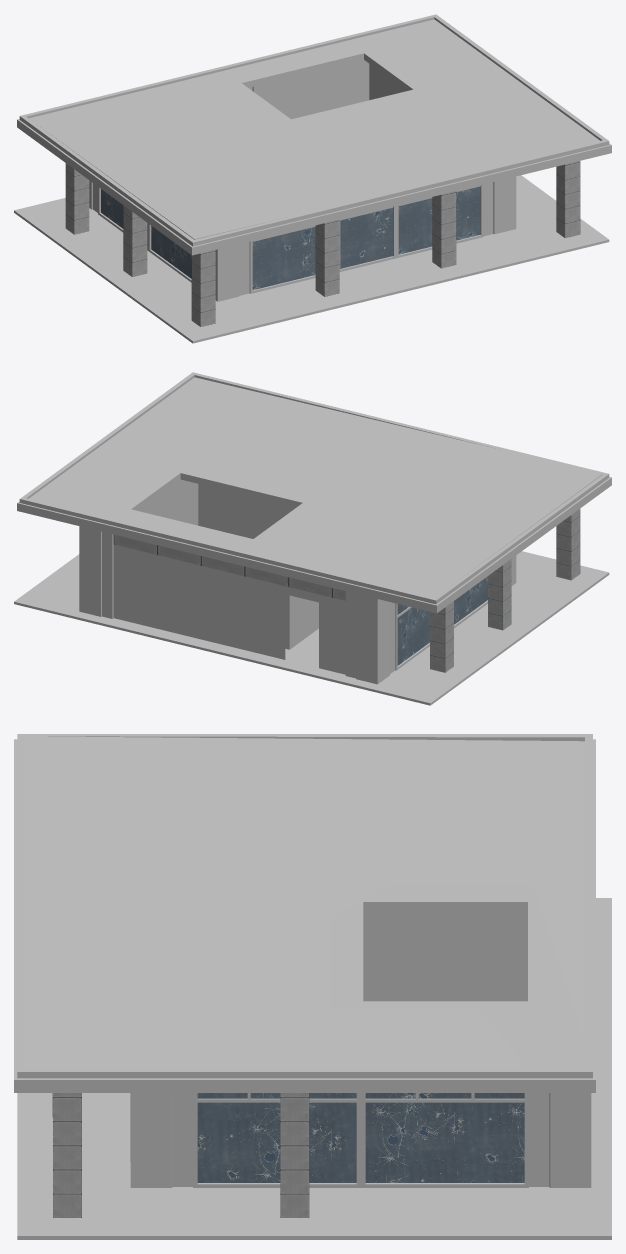
File: jianzhu.FBX
3 renders of one model, top to bottom at view 1: azimuth 30°, elevation 25°; view 2: azimuth 150°, elevation 25°; view 3: azimuth 270°, elevation 25°, orthographic. The views are drawn at different scales.
Visible parts, largest first — view 1: polySurface359, di, zhuzi, chuang; view 2: polySurface359, di, zhuzi, chuang; view 3: polySurface359, di, chuang, zhuzi.
Part boxes in pixels (bbox=[...]): polySurface359: bbox=[17, 14, 611, 301]; di: bbox=[14, 87, 609, 343]; zhuzi: bbox=[65, 161, 580, 326]; chuang: bbox=[101, 186, 480, 289]; polySurface359: bbox=[17, 372, 611, 684]; di: bbox=[14, 544, 609, 705]; zhuzi: bbox=[113, 509, 580, 672]; chuang: bbox=[397, 576, 487, 665]; polySurface359: bbox=[14, 734, 595, 1187]; di: bbox=[17, 898, 611, 1239]; chuang: bbox=[197, 1093, 524, 1182]; zhuzi: bbox=[52, 1093, 309, 1217].
Bounding box in the file's own units: 14.4 × 3.33 × 10.68.
